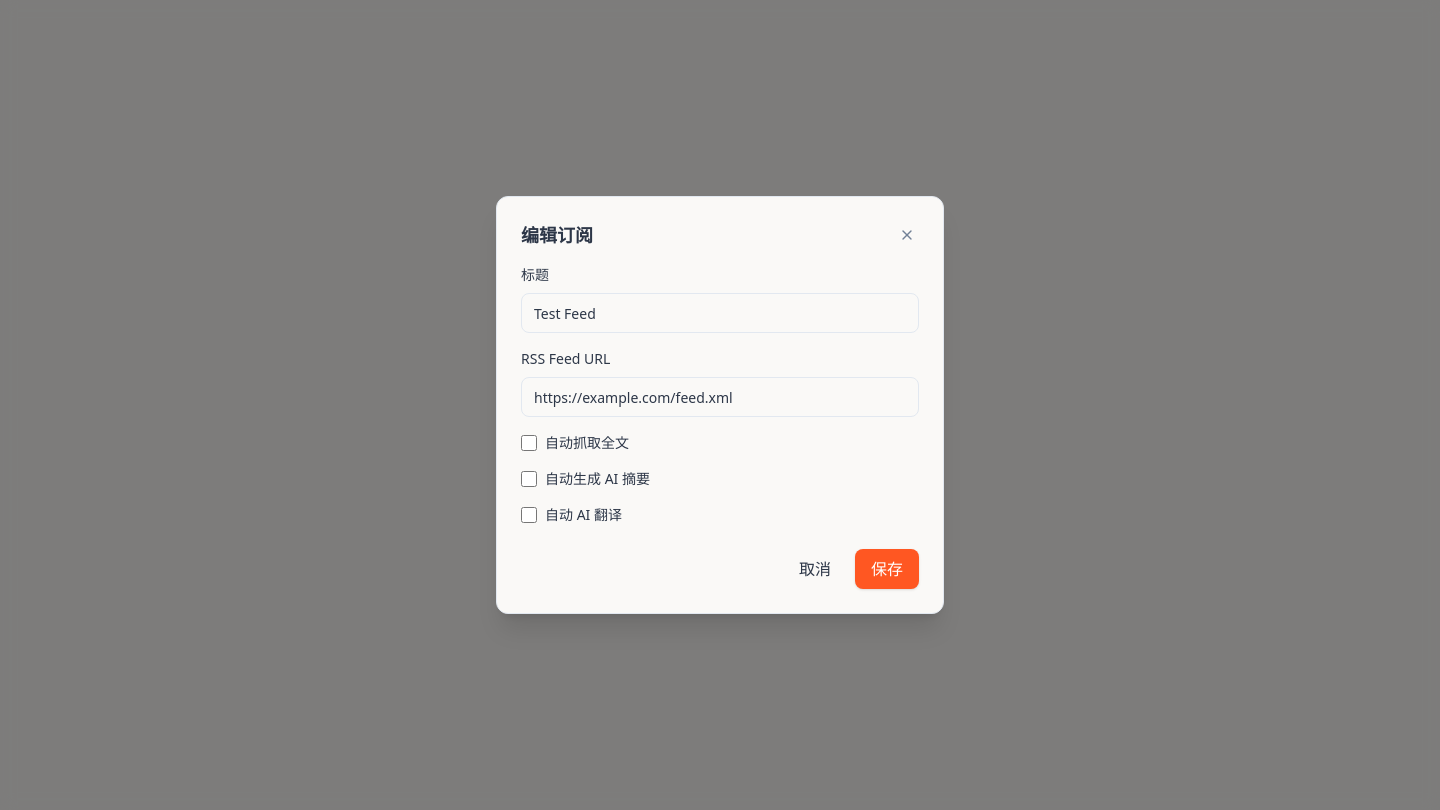
it: EditFeedDialog › shows error when title is empty on submit
Clear the field showing "Test Feed": [720, 313] box [521, 293, 919, 333]
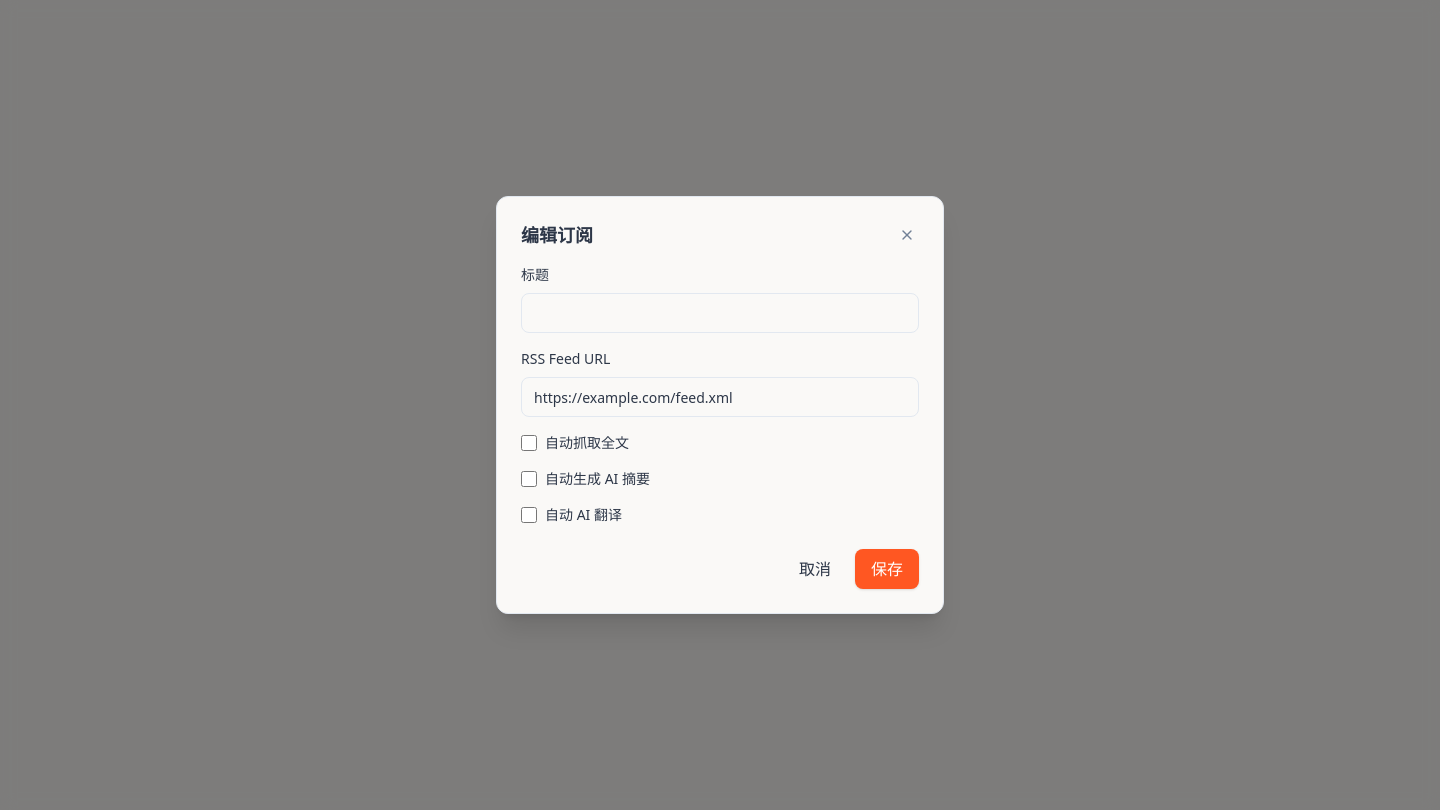
Click the button "保存": [887, 569] box [855, 549, 919, 589]
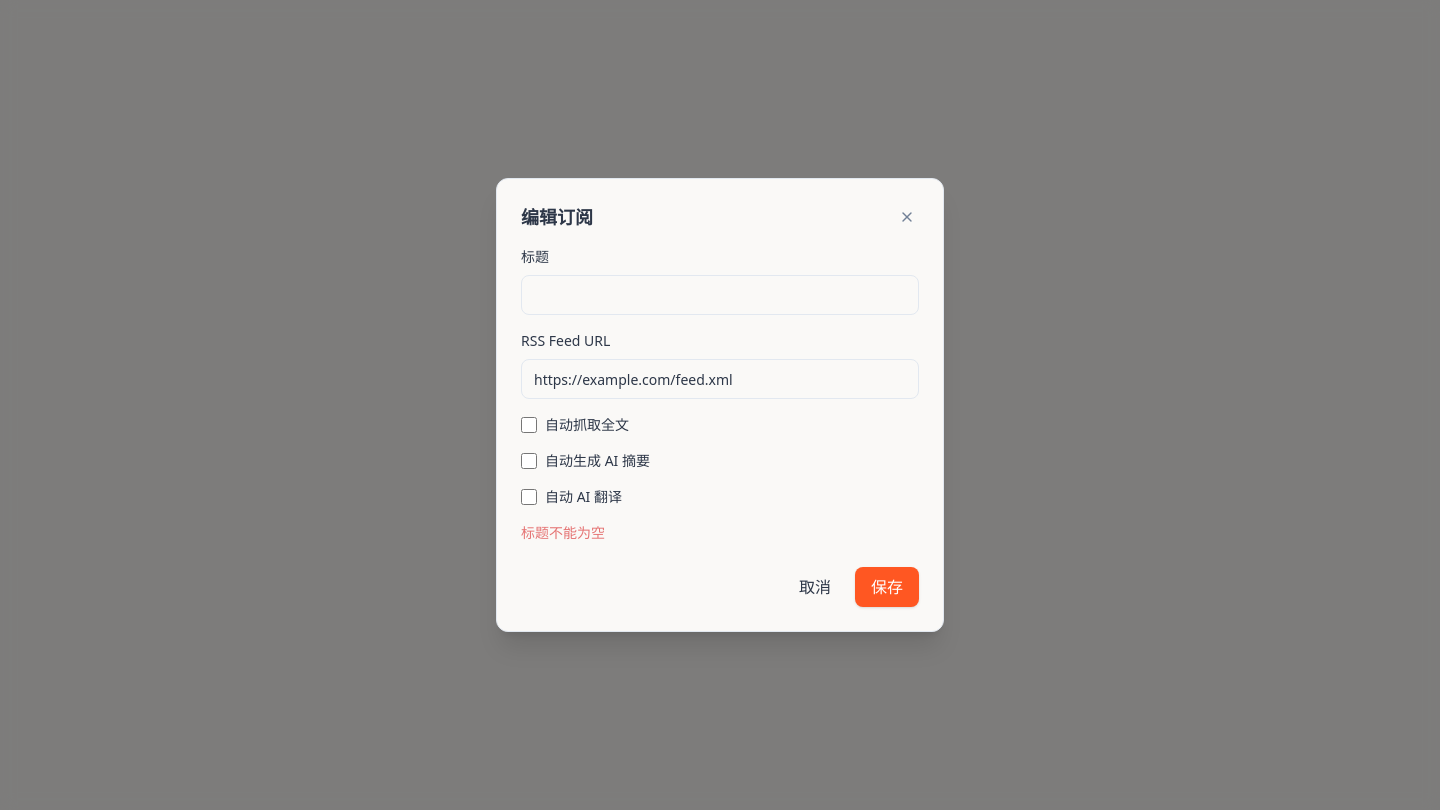
Expected: the text "标题不能为空" is shown, [521, 523, 605, 542]
